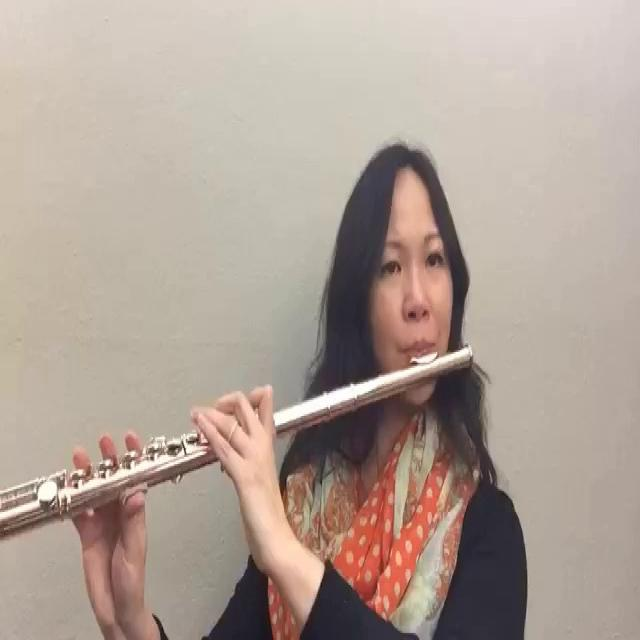Flute: (1, 319, 487, 559)
